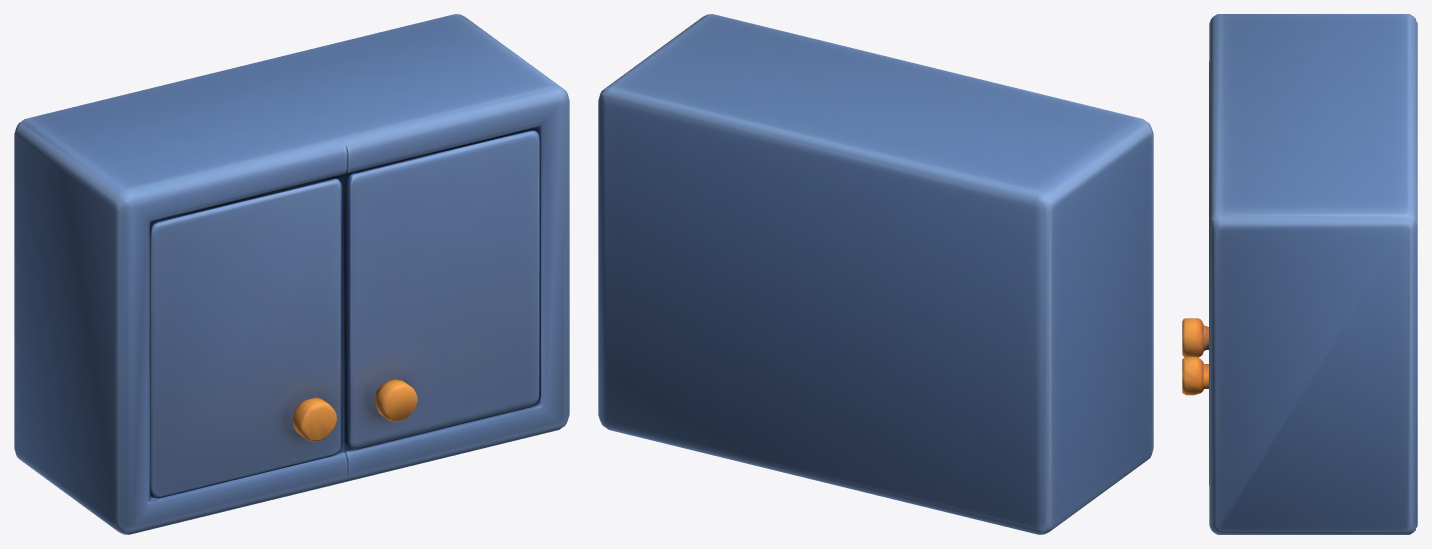
Rendered from wall-cabinet.glb.
3 renders of one model, left to right at view 1: azimuth 30°, elevation 25°; view 2: azimuth 150°, elevation 25°; view 3: azimuth 270°, elevation 25°, orthographic. The views are drawn at different scales.
Visible parts, largest first — view 1: 壁柜静态总成; view 2: 壁柜静态总成; view 3: 壁柜静态总成.
Part boxes in pixels (x1,y1,x2,y2): 壁柜静态总成: (14,14,569,534); 壁柜静态总成: (598,14,1153,534); 壁柜静态总成: (1182,14,1417,534).
Size of the model in its own units: 1.05 by 0.7636 by 0.501.
Materials: 1 (1 with a texture image).
